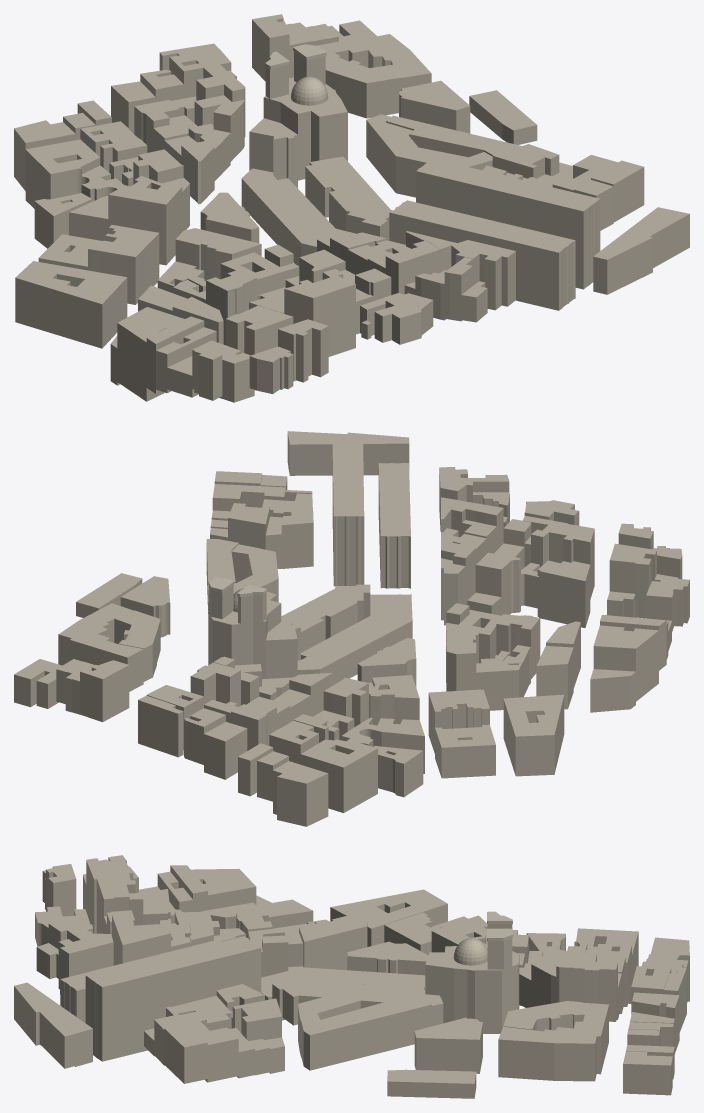
The model's file is senglea_59_30_mid.glb.
3 renders of one model, top to bottom at view 1: azimuth 30°, elevation 25°; view 2: azimuth 150°, elevation 25°; view 3: azimuth 270°, elevation 25°, orthographic. The views are drawn at different scales.
Visible parts, largest first — view 1: geometry_0; view 2: geometry_0; view 3: geometry_0.
Boxes of the visible parts, x1,y1,x2,y2 form: geometry_0: [14, 14, 689, 402]; geometry_0: [14, 431, 689, 826]; geometry_0: [14, 855, 689, 1098].
Bounding box in the file's own units: 160 × 48.56 × 193.
